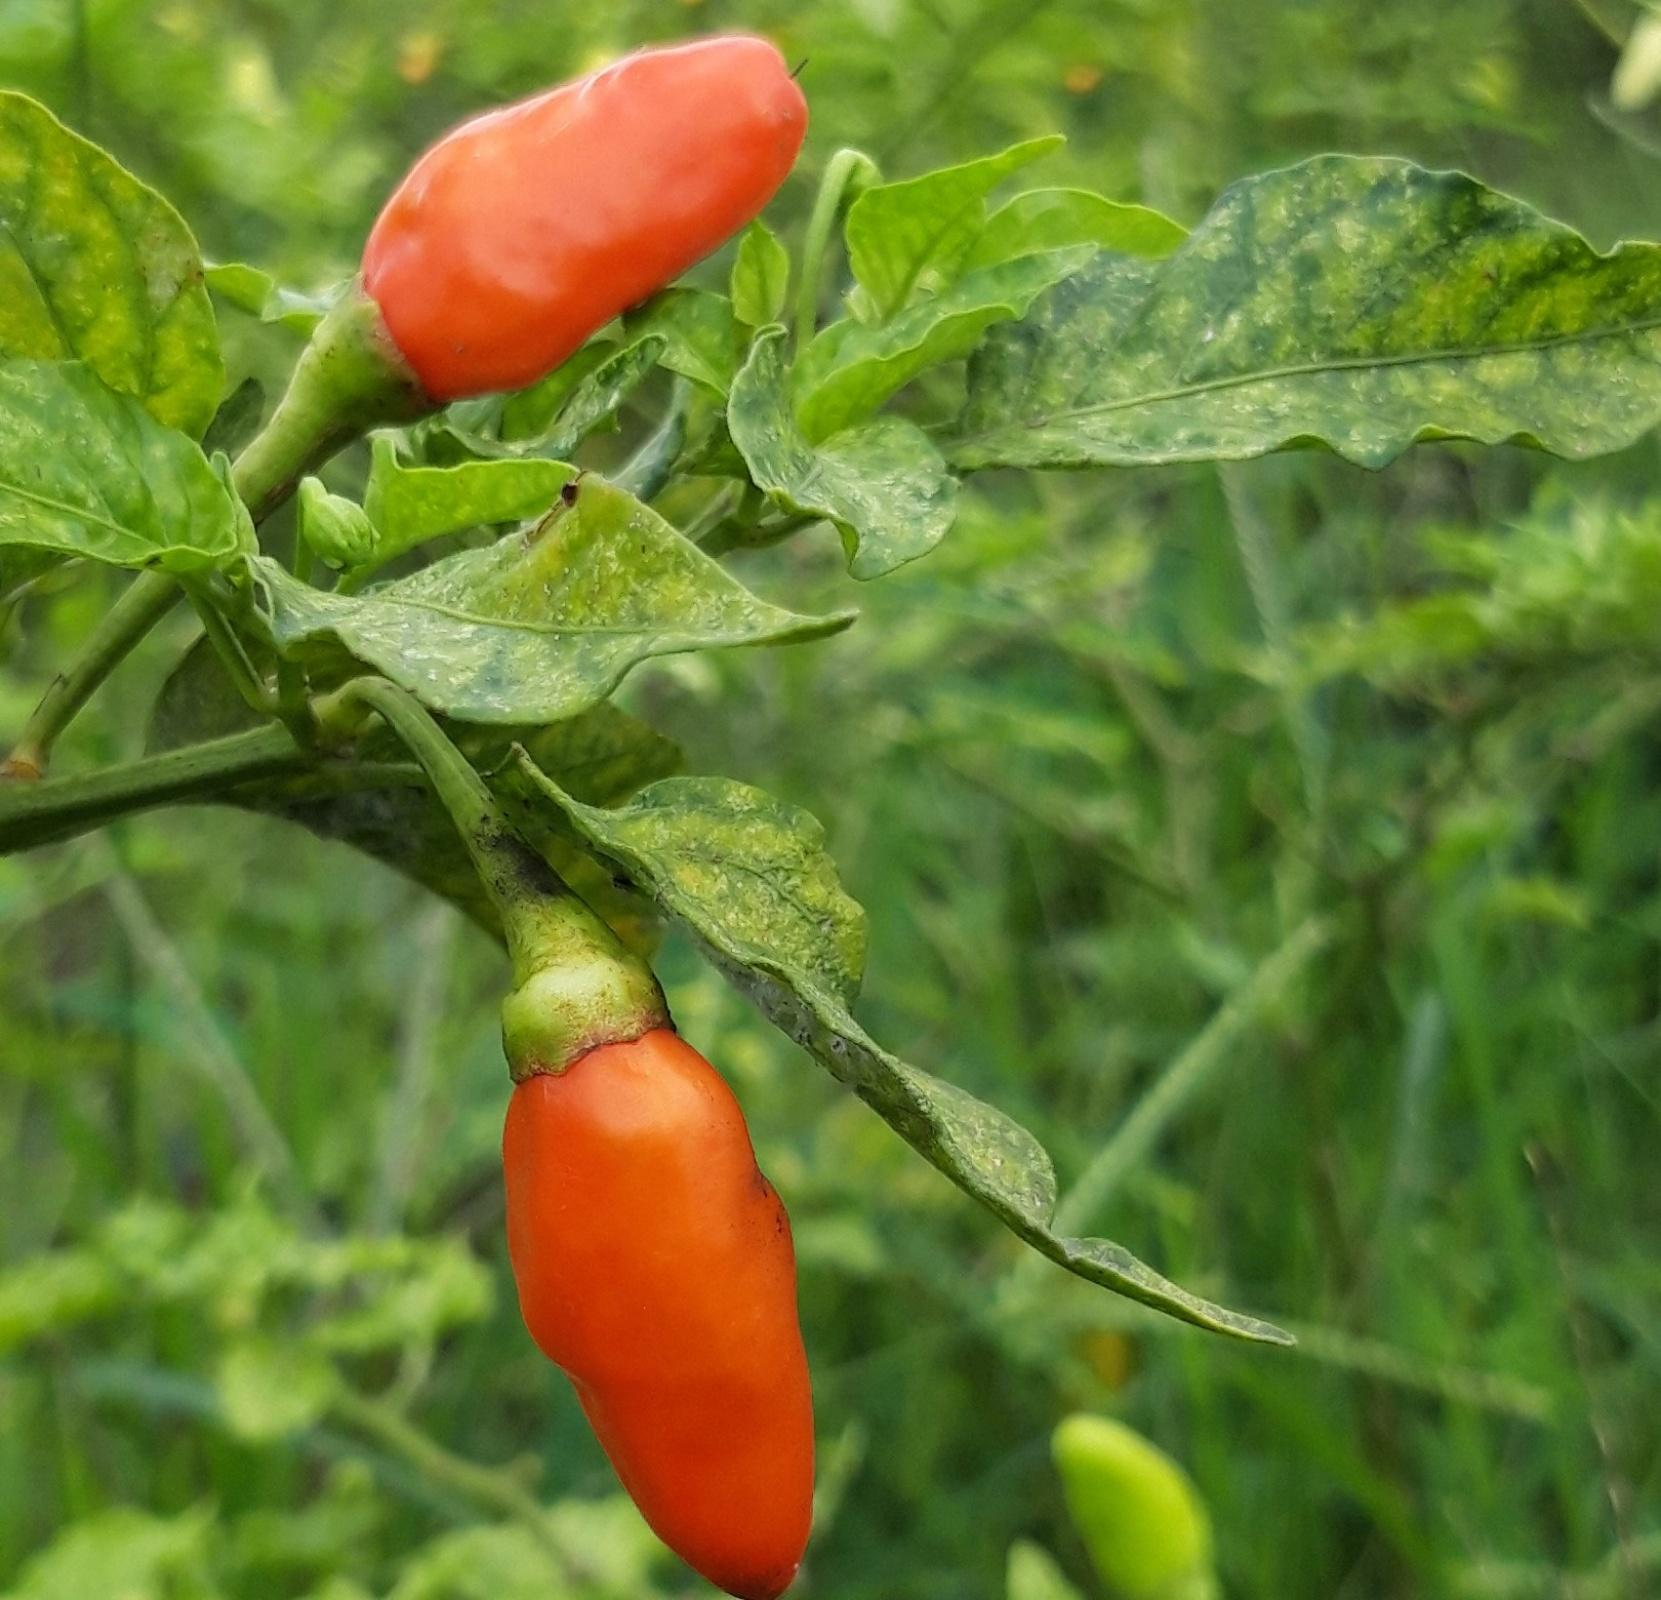cabai_normal: (500, 1028, 820, 1593), (360, 33, 813, 409), (1051, 1412, 1219, 1600)
